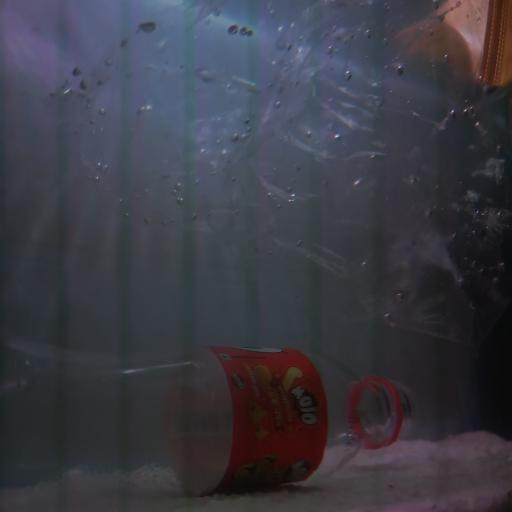mask: (411, 1, 512, 92)
plastic_bag: (1, 0, 512, 348)
plastic_bottle: (5, 350, 415, 495)
